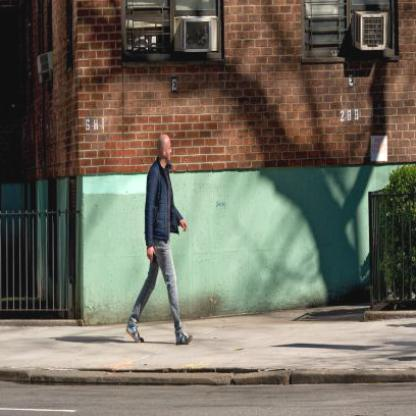person: (128, 132, 188, 344)
